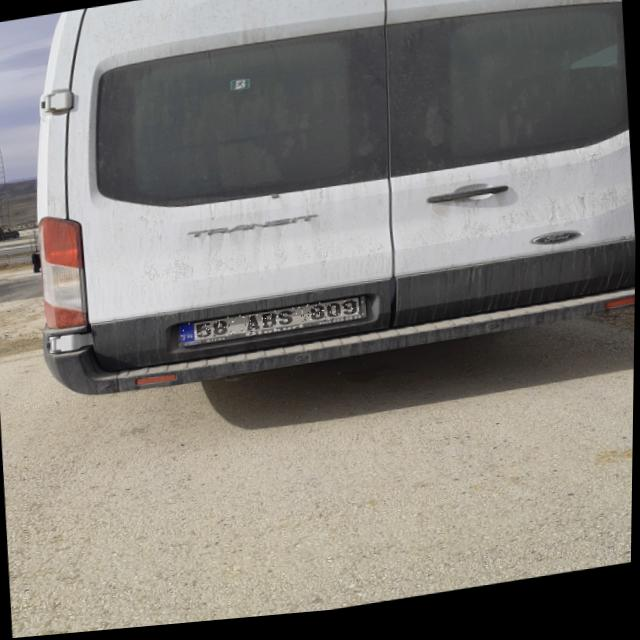plate: (178, 302, 366, 347)
